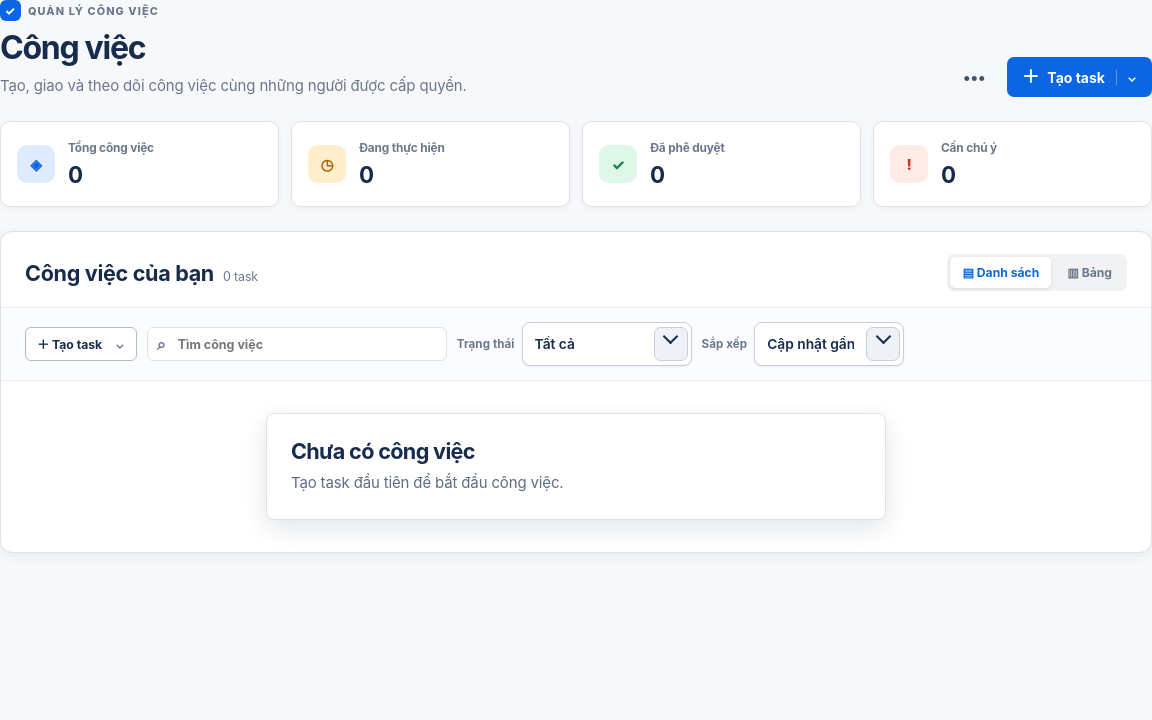
Test case: task list creation flow › keeps the drawer values and shows the API error for a retry
Click the button with aria-label "new task" at (1079, 77), box [1007,57,1151,97]
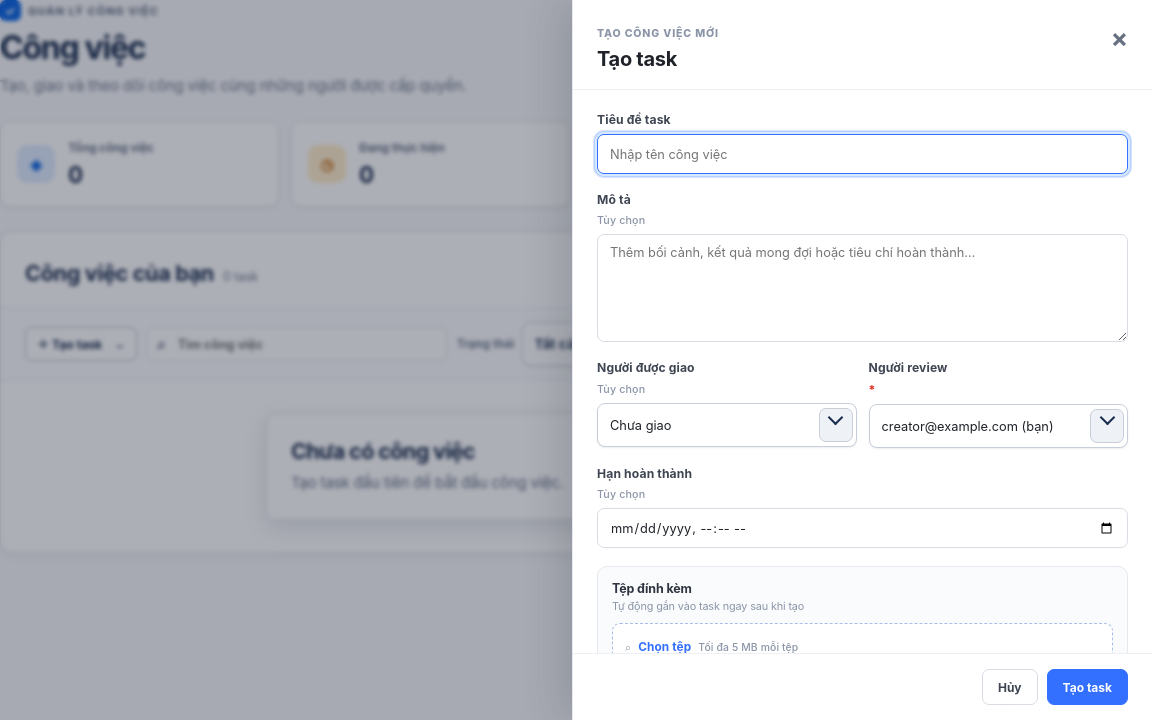
Type "Task cần thử lại" into the field labelled "Tiêu đề task" at (862, 154), box [597,134,1128,174]
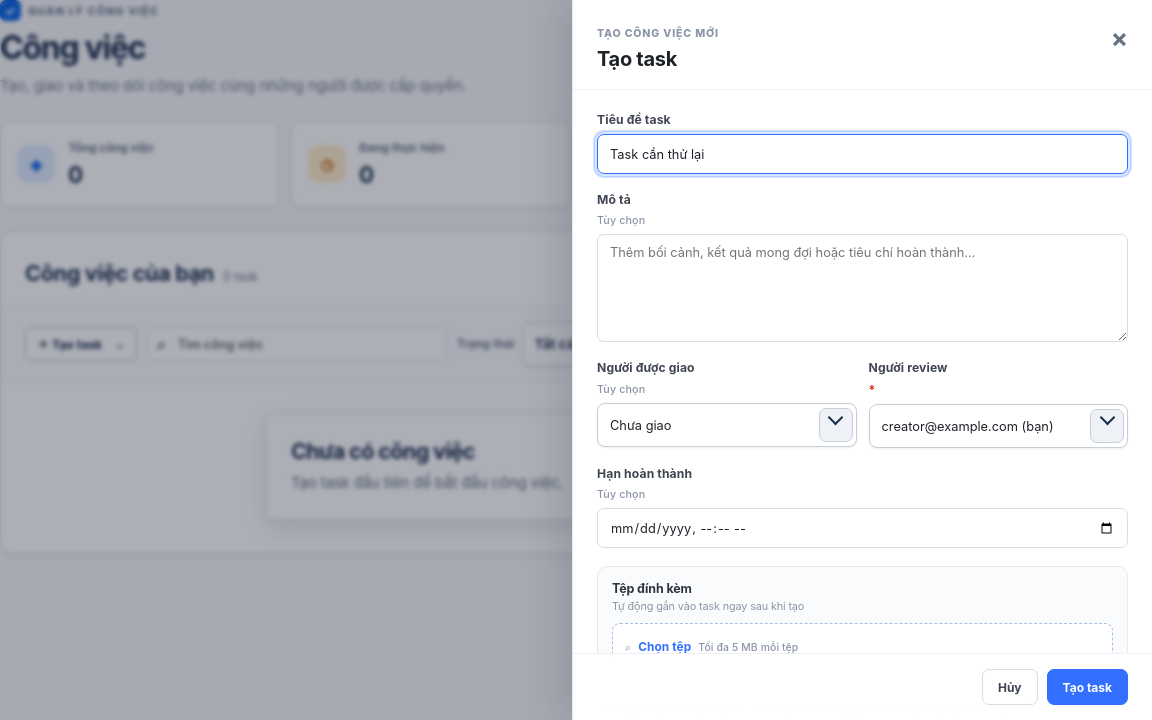
Click the button "Tạo task" at (1087, 687), box [1047,669,1128,705]
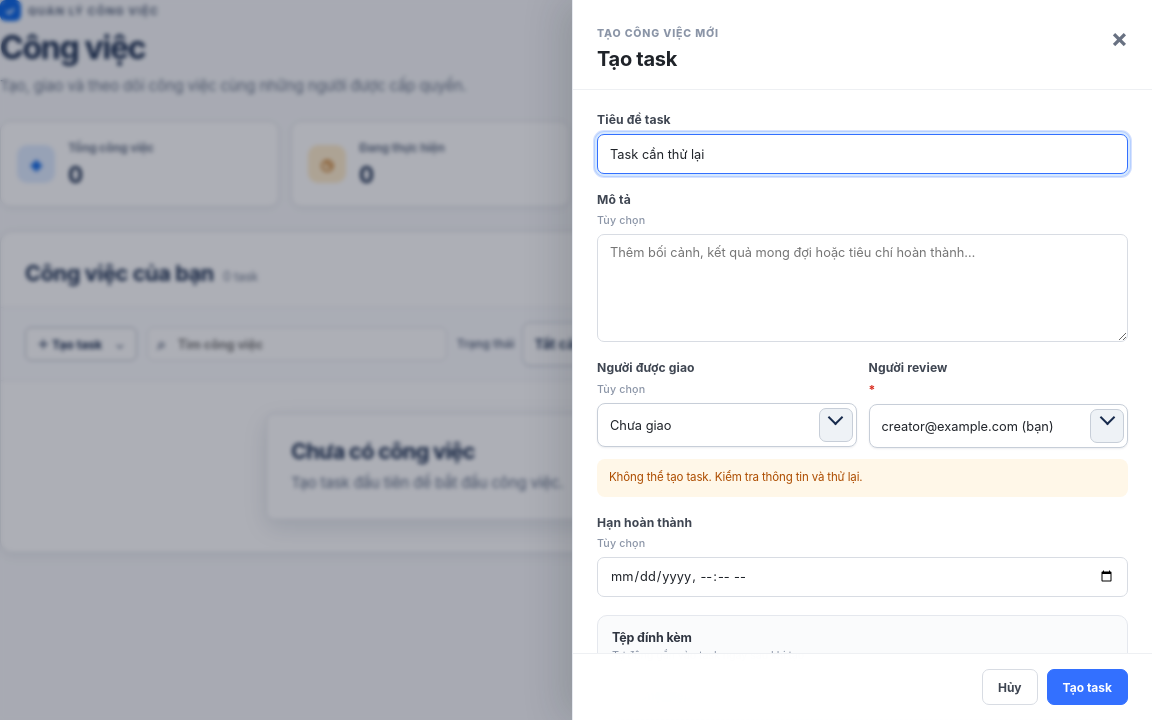
Check: the message shows "Không thể tạo task.", box [609,470,862,484]
